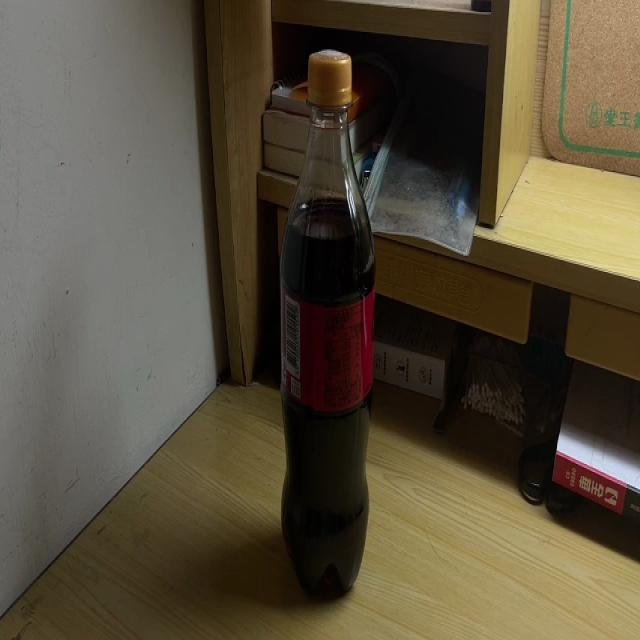Coca-Cola: (280, 48, 375, 598)
